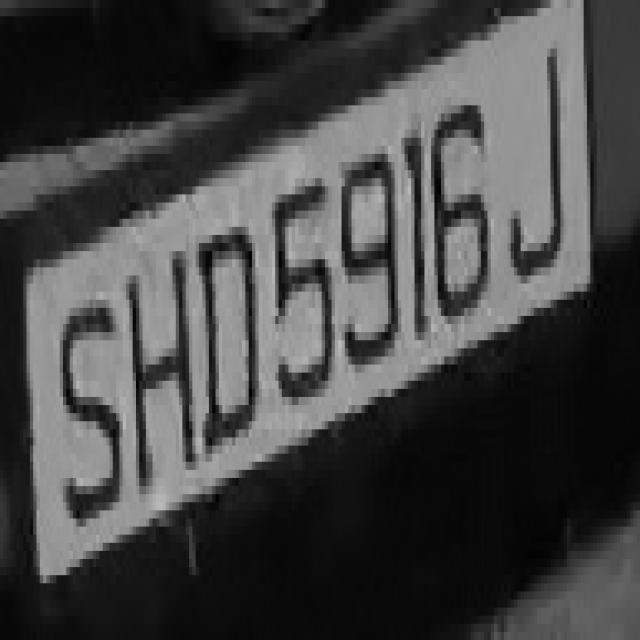1: (388, 81, 434, 389)
5: (272, 138, 335, 413)
6: (424, 65, 498, 356)
9: (335, 121, 401, 372)
D: (192, 211, 262, 478)
H: (129, 235, 206, 510)
J: (497, 41, 567, 300)
S: (53, 268, 123, 526)
